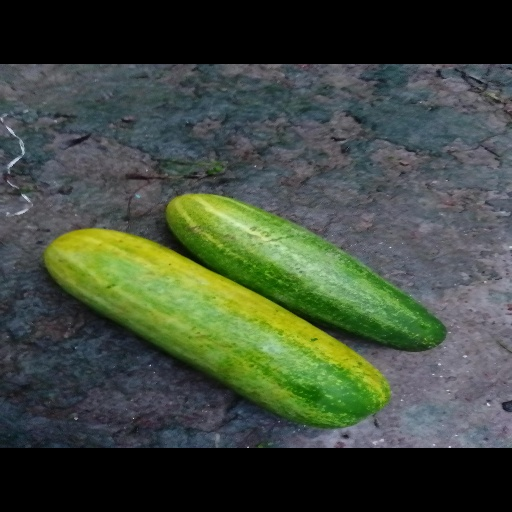concombre: (44, 228, 391, 429), (166, 193, 448, 353)
